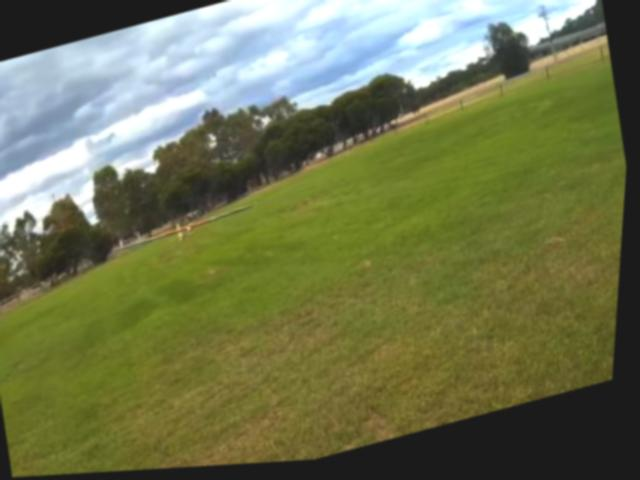uav: (106, 191, 267, 273)
